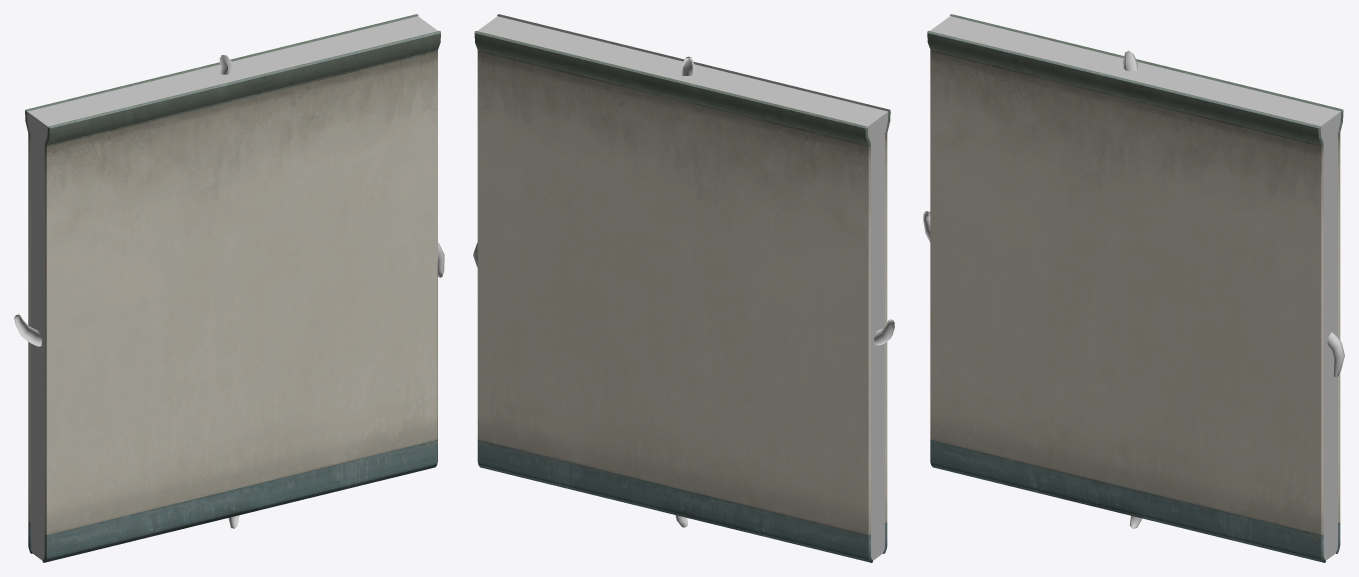
Rendered from 01_01_corridor_wall_flat_short_broken_top01.dae.
The picture shows the model from 3 angles, left to right: view 1: azimuth 30°, elevation 25°; view 2: azimuth 150°, elevation 25°; view 3: azimuth 330°, elevation 25°; orthographic projection.
Parts seen in each view (by area): view 1: polySurface80, polySurface77, polySurface75; view 2: polySurface80, polySurface77, polySurface75; view 3: polySurface80, polySurface77, polySurface75.
Boxes of the visible parts, x1,y1,x2,y2 form: polySurface80: (25, 14, 440, 562); polySurface77: (27, 16, 437, 560); polySurface75: (14, 55, 444, 528); polySurface80: (474, 14, 890, 562); polySurface77: (477, 16, 888, 560); polySurface75: (473, 56, 894, 527); polySurface80: (927, 14, 1343, 562); polySurface77: (930, 16, 1340, 560); polySurface75: (923, 50, 1344, 528).
Bounding box in the file's own units: 2.18 × 2.31 × 0.2244.
